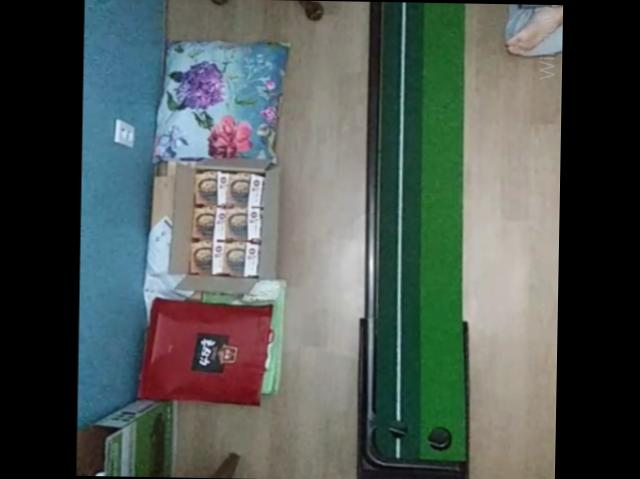green_zone: (375, 1, 466, 458)
hole: (428, 424, 452, 448), (388, 418, 408, 436)
